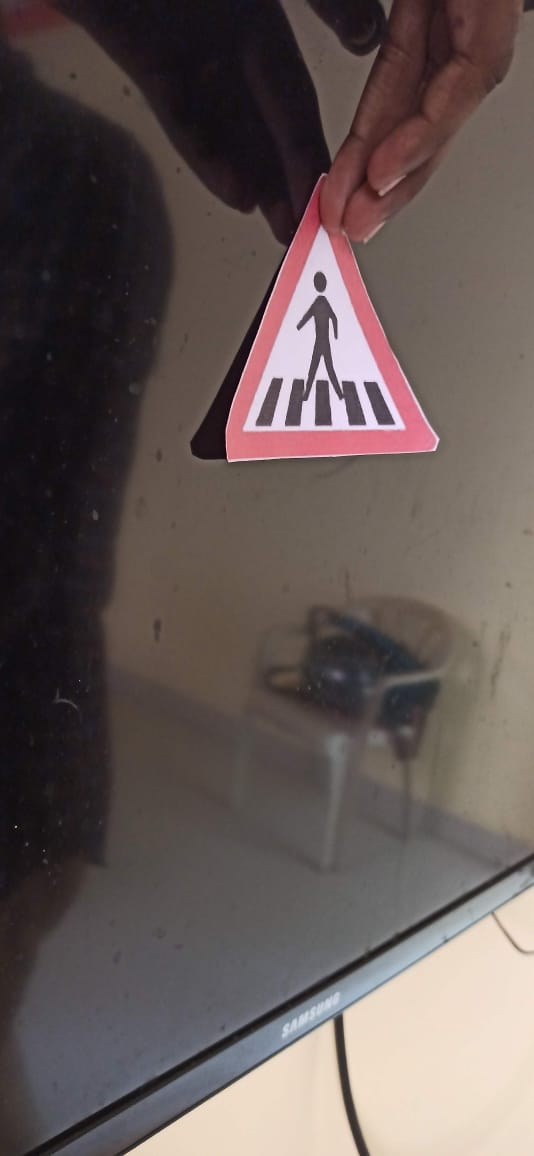PEDESTRIAN CROSSING: (200, 169, 482, 469)
